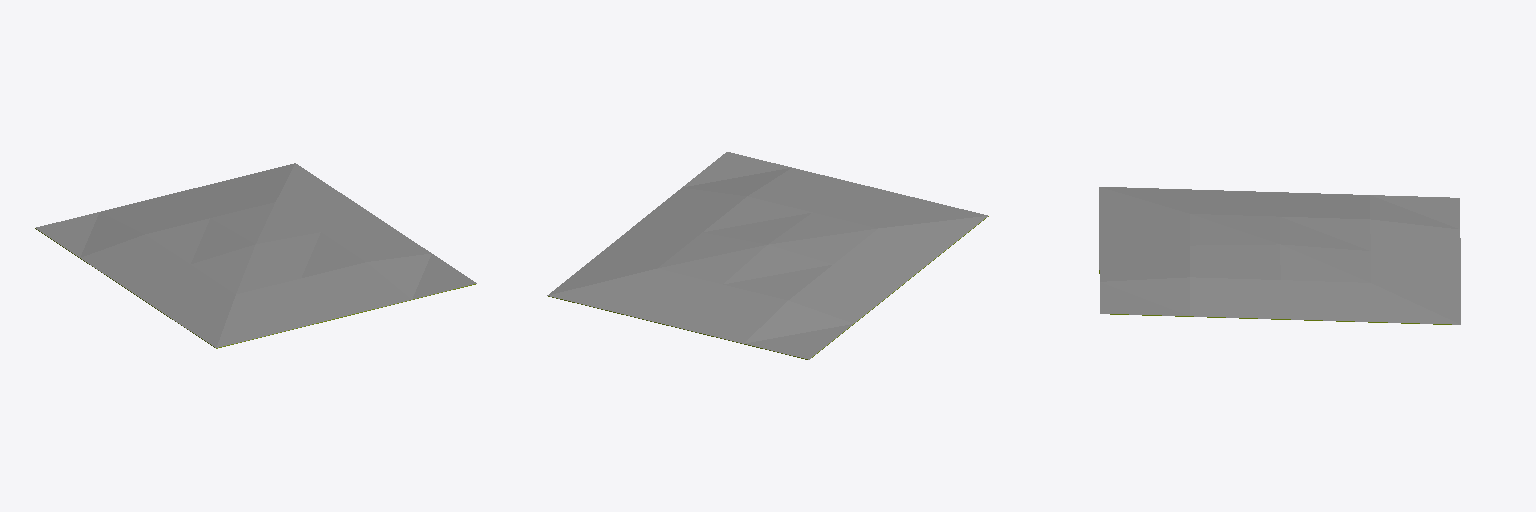
File: gasaparafinada.obj
3 views of the same model, side by side, from view 1: azimuth 30°, elevation 25°; view 2: azimuth 150°, elevation 25°; view 3: azimuth 270°, elevation 25° (orthographic).
Visible parts, largest first — view 1: c010; view 2: c010; view 3: c010.
Boxes of the visible parts, <box> form: c010: <box>35,163,476,348</box>; c010: <box>547,152,988,359</box>; c010: <box>1099,187,1460,324</box>.
Bounding box in the file's own units: 46.15 × 3.88 × 55.18.